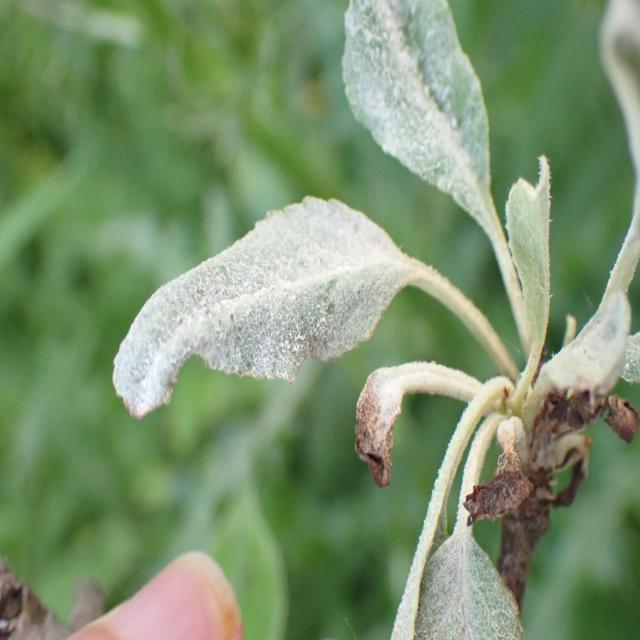Powdery_mildew: (92, 191, 430, 425), (340, 0, 517, 291), (427, 444, 567, 640), (501, 154, 564, 405)
